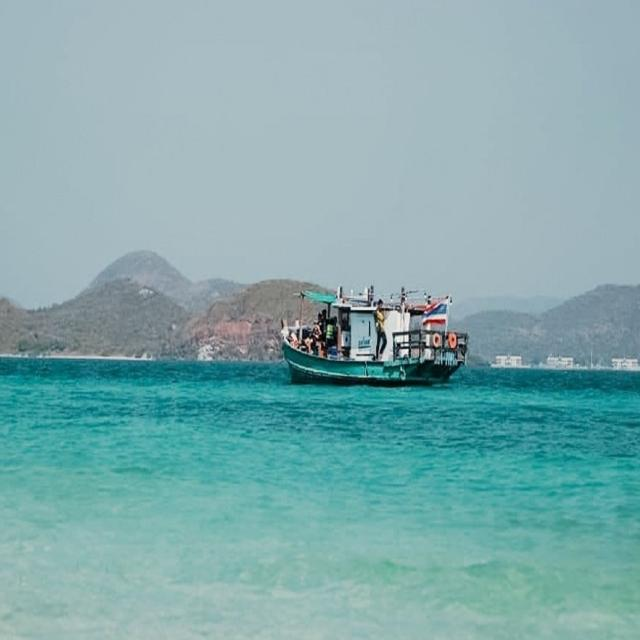fishing boat: (277, 280, 465, 383)
